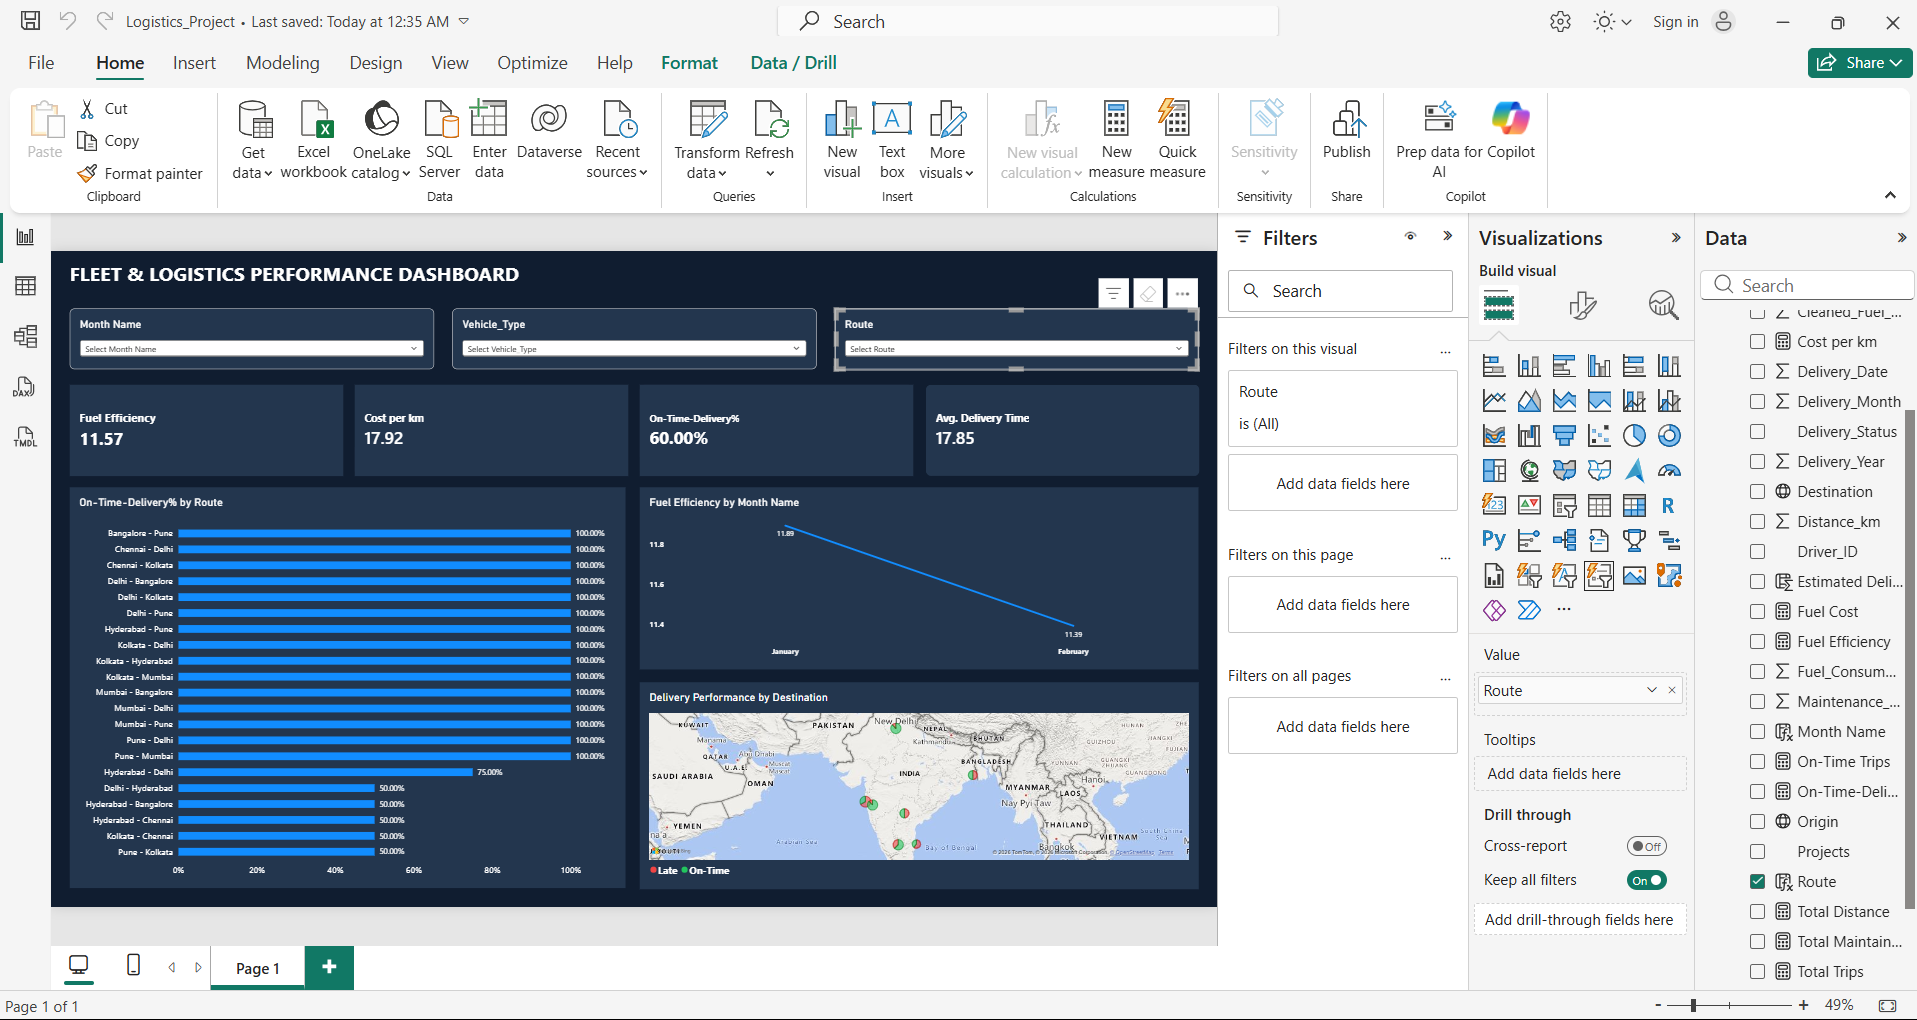

This screenshot's page, from the dashboard's own definition file:
{"tool":"powerbi","page":{"name":"Page 1","canvas":[1920,1080],"ordinal":0},"visuals":[{"type":"cardVisual","fields":{"Data":["Trip_Vehicle_Master1.Fuel Efficiency"]},"box":[30,220,450,150],"z":0},{"type":"cardVisual","fields":{"Data":["Trip_Vehicle_Master1.Cost per km"]},"box":[500,220,450,150],"z":1000},{"type":"cardVisual","fields":{"Data":["Trip_Vehicle_Master1.On-Time-Delivery%"]},"box":[970,220,450,150],"z":2000},{"type":"barChart","fields":{"Category":["Trip_Vehicle_Master1.Route"],"Y":["Trip_Vehicle_Master1.On-Time-Delivery%"]},"box":[30,390,915,660],"z":3000},{"type":"lineChart","fields":{"Category":["Trip_Vehicle_Master1.Month Name"],"Y":["Trip_Vehicle_Master1.Fuel Efficiency"]},"box":[970,390,920,300],"z":4000},{"type":"cardVisual","fields":{"Data":["Trip_Vehicle_Master1.Avg. Delivery Time"]},"box":[1440,220,450,150],"z":5000},{"type":"map","title":"Delivery Performance by Destination","fields":{"Category":["Trip_Vehicle_Master1.Destination"],"Series":["Trip_Vehicle_Master1.Delivery_Status"],"Size":["Trip_Vehicle_Master1.Total Trips"]},"box":[970,710,920,340],"z":5001},{"type":"textbox","box":[30.9,15,1860,65],"z":5002},{"type":"listSlicer","fields":{"Values":["Trip_Vehicle_Master1.Route"]},"box":[1290,95,600,100],"z":5003},{"type":"listSlicer","fields":{"Values":["Trip_Vehicle_Master1.Vehicle_Type"]},"box":[660,95,600,100],"z":5004},{"type":"listSlicer","fields":{"Values":["Trip_Vehicle_Master1.Month Name"]},"box":[30.9,94.7,600,100],"z":5005}]}

Visuals, with their boxes on the page's 1920x1080 design canvas (x1, y1, x2, y2). These are canvas units, not pixel positions in the 1917x1020 screenshot, which may show the page scaled, cropped or inside an application window:
cardVisual - Trip_Vehicle_Master1.Fuel Efficiency: box=[30, 220, 480, 370]
cardVisual - Trip_Vehicle_Master1.Cost per km: box=[500, 220, 950, 370]
cardVisual - Trip_Vehicle_Master1.On-Time-Delivery%: box=[970, 220, 1420, 370]
barChart - Trip_Vehicle_Master1.Route x Trip_Vehicle_Master1.On-Time-Delivery%: box=[30, 390, 945, 1050]
lineChart - Trip_Vehicle_Master1.Month Name x Trip_Vehicle_Master1.Fuel Efficiency: box=[970, 390, 1890, 690]
cardVisual - Trip_Vehicle_Master1.Avg. Delivery Time: box=[1440, 220, 1890, 370]
"Delivery Performance by Destination" map: box=[970, 710, 1890, 1050]
textbox: box=[31, 15, 1891, 80]
listSlicer - Trip_Vehicle_Master1.Route: box=[1290, 95, 1890, 195]
listSlicer - Trip_Vehicle_Master1.Vehicle_Type: box=[660, 95, 1260, 195]
listSlicer - Trip_Vehicle_Master1.Month Name: box=[31, 95, 631, 195]
